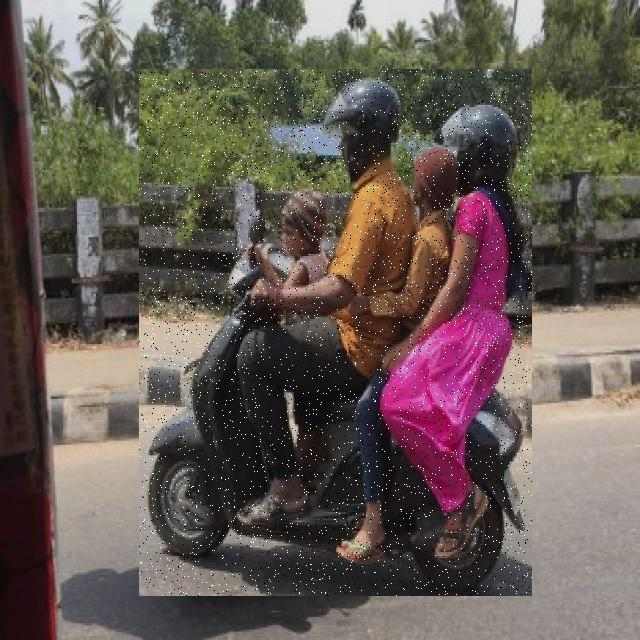With Helmet: (139, 69, 532, 596)
